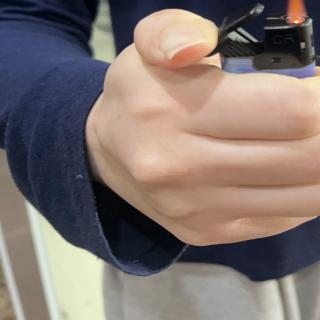fire: (285, 0, 307, 23)
